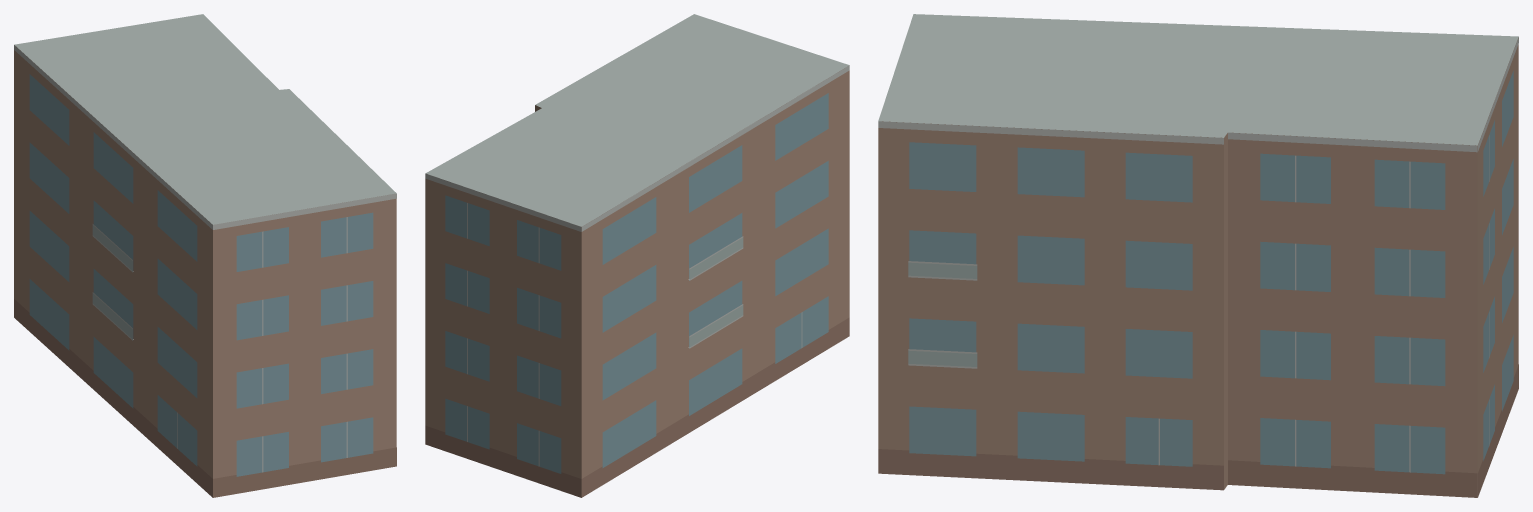
File: survey-upis-32566193.glb
The picture shows the model from 3 angles, left to right: view 1: azimuth 30°, elevation 25°; view 2: azimuth 150°, elevation 25°; view 3: azimuth 270°, elevation 25°; orthographic projection. The views are drawn at different scales.
Visible parts, largest first — view 1: survey-upis-32566193.tmp; view 2: survey-upis-32566193.tmp; view 3: survey-upis-32566193.tmp.
Part boxes in pixels (x1,y1,x2,y2): survey-upis-32566193.tmp: (14,14,396,497); survey-upis-32566193.tmp: (425,14,849,497); survey-upis-32566193.tmp: (878,14,1518,497).
Bounding box in the file's own units: 10.26 × 12.8 × 21.1.
